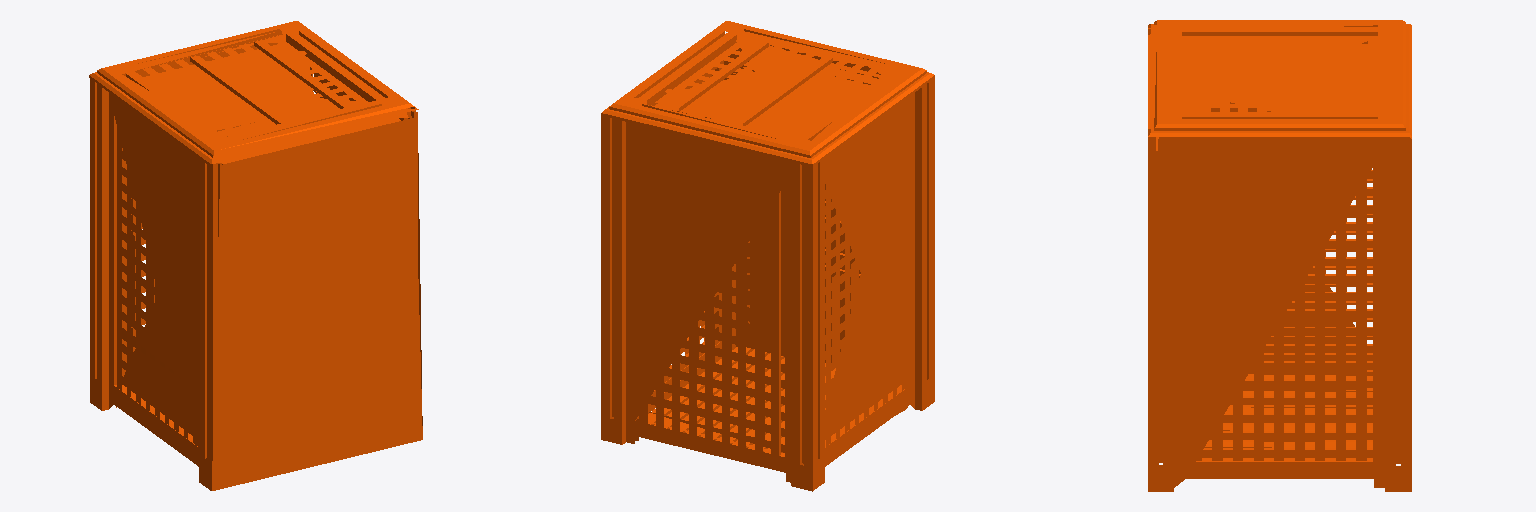
URDF robot description (Basket_40ff424bfe4cd555ae25f6fe802a8997):
<?xml version="1.0" ?>
<robot name="Basket_40ff424bfe4cd555ae25f6fe802a8997">
   <material name="obj_color">
      <color rgba="1.0 0.423529411765 0.0392156862745 1.0"/>
   </material>
   <link name="top">
      <inertial>
         <origin rpy="0.001392097514489772 0.002348561086217844 0.002349232618523031" xyz="8.125305814248282e-05 -8.443688565515483e-05 -0.004125806551999577"/>
         <mass value="1.061701302821784"/>
         <inertia ixx="0.002349231197977899" ixy="1.83183217663832e-09" ixz="1.16603873806816e-06" iyy="0.002348558630578527" iyz="-1.532554055935157e-06" izz="0.001392101390674222"/>
      </inertial>
      <visual>
         <origin rpy="0 0 0" xyz="0 0 0"/>
         <geometry>
            <mesh filename="top_watertight_tiny.stl" scale="1 1 1"/>
         </geometry>
         <material name="obj_color"/>
      </visual>
      <collision>
         <origin rpy="0 0 0" xyz="0 0 0"/>
         <geometry>
            <mesh filename="top_watertight_tiny.obj" scale="1 1 1"/>
         </geometry>
      </collision>
   </link>
   <link name="bottom">
      <inertial>
         <origin rpy="1.633333333331402e-08 1.633333333331402e-08 1.633333333331402e-08" xyz="0.08660200000000004 0.08660200000000004 0.08660200000000004"/>
         <mass value="0.0009800000000000026"/>
         <inertia ixx="1.633333333331402e-08" ixy="-0" ixz="-0" iyy="1.633333333331402e-08" iyz="-0" izz="1.633333333331402e-08"/>
      </inertial>
      <visual>
         <origin rpy="0 0 0" xyz="0 0 0"/>
         <geometry>
            <mesh filename="bottom_watertight_tiny.stl" scale="1 1 1"/>
         </geometry>
         <material name="obj_color"/>
      </visual>
   </link>
   <joint name="rotation" type="revolute">
      <origin xyz="0 0 0"/>
      <axis xyz="0 0 -1"/>
      <parent link="bottom"/>
      <child link="top"/>
      <dynamics damping="1.0" friction="1.0"/>
      <limit effort="0.1" velocity="0.1" lower="0" upper="0.001"/>
   </joint>
</robot>

--- What the picture shows (computed from the rendered views, not written in the file) ---
3 views of the same robot in one strip: view 1: azimuth 30°, elevation 25°; view 2: azimuth 150°, elevation 25°; view 3: azimuth 270°, elevation 25° (orthographic).
Robot: Basket_40ff424bfe4cd555ae25f6fe802a8997 — 2 links, 1 joints (1 revolute); root link bottom; default pose: every joint at zero.
Visible links, largest first — view 1: top; view 2: top; view 3: top.
Boxes of the visible links, box(x1,y1,x2,y2) form: top: box(89, 21, 422, 490); top: box(601, 21, 934, 491); top: box(1148, 20, 1411, 491).
Size in the robot's own frame: 0.0891 by 0.0891 by 0.135 metres.
1 mesh visuals loaded from 2 distinct referenced files (1 binary STL); not drawn: 1 (reference not matched to a file when rendering).